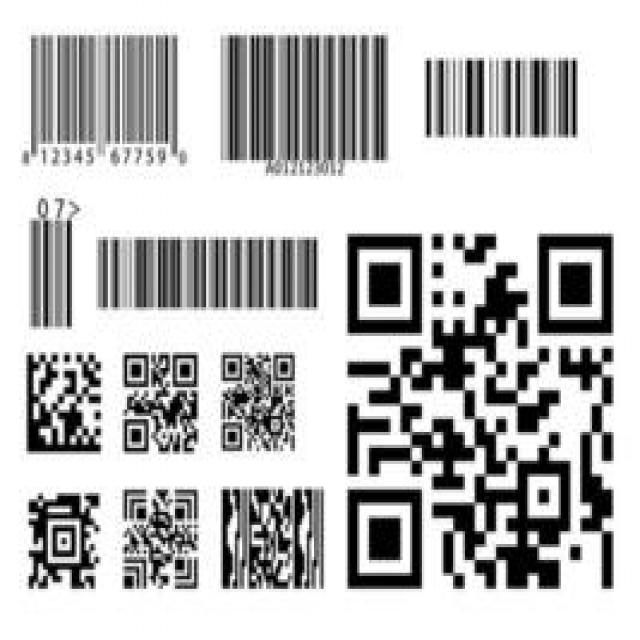Barkod: (212, 24, 392, 178), (18, 27, 192, 172), (90, 222, 326, 322), (420, 45, 585, 147)
